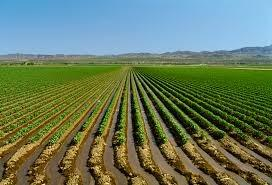field: (0, 65, 271, 184)
